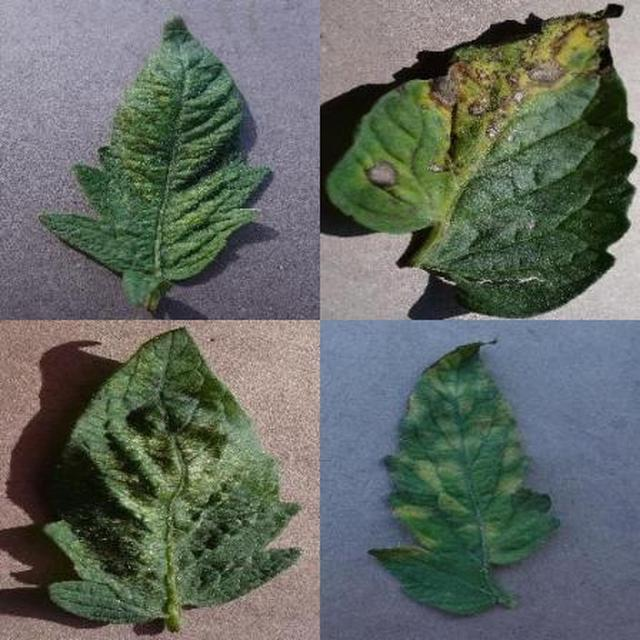Spider Mites Leaf: (219, 214, 640, 640)
